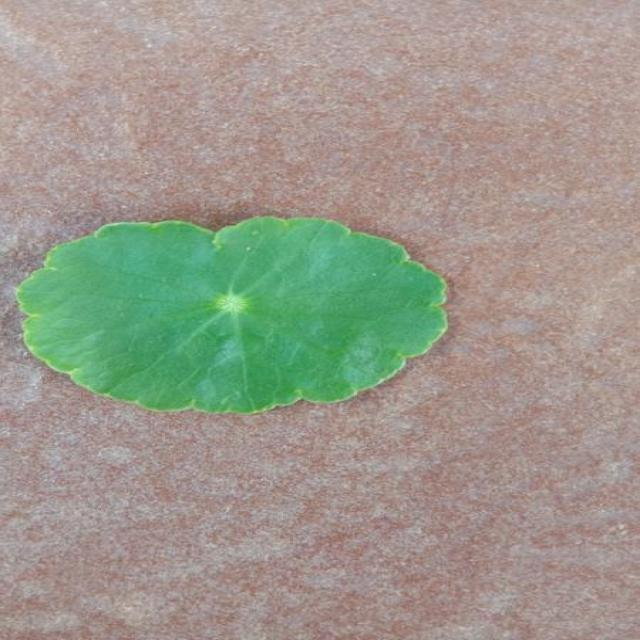bhrami: (17, 218, 447, 412)
